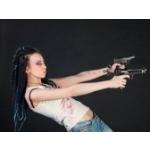Pistol: (116, 66, 146, 90), (110, 52, 138, 72)
